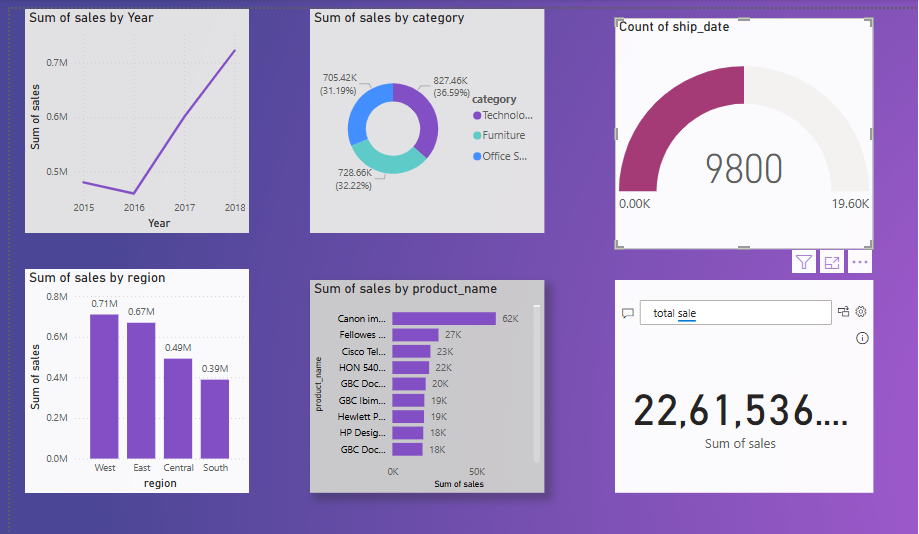

This screenshot's page, from the dashboard's own definition file:
{"tool":"powerbi","page":{"name":"Page 1","canvas":[1280,720],"ordinal":0},"visuals":[{"type":"lineChart","fields":{"Category":["cleaned_train_data.order_date.Variation.Date Hierarchy.Year","cleaned_train_data.order_date.Variation.Date Hierarchy.Quarter","cleaned_train_data.order_date.Variation.Date Hierarchy.Month","cleaned_train_data.order_date.Variation.Date Hierarchy.Day"],"Y":["Sum(cleaned_train_data.sales)"]},"box":[18.8,0,280,280],"z":0},{"type":"clusteredColumnChart","fields":{"Category":["cleaned_train_data.region"],"Y":["Sum(cleaned_train_data.sales)"]},"box":[18.8,325,280,280],"z":1000},{"type":"donutChart","fields":{"Category":["cleaned_train_data.category"],"Y":["Sum(cleaned_train_data.sales)"]},"box":[375,0,292.5,280],"z":2000},{"type":"barChart","fields":{"Category":["cleaned_train_data.product_name"],"Y":["Sum(cleaned_train_data.sales)"]},"box":[375,338.8,292.5,266.2],"z":3000},{"type":"gauge","fields":{"Y":["CountNonNull(cleaned_train_data.ship_date)"]},"box":[756.2,11.2,322.5,288.8],"z":4000},{"type":"qnaVisual","box":[756.2,338.8,322.5,266.2],"z":5000}]}

Visuals, with their boxes on the page's 1280x720 design canvas (x1, y1, x2, y2). These are canvas units, not pixel positions in the 919x534 screenshot, which may show the page scaled, cropped or inside an application window:
lineChart - cleaned_train_data.order_date.Variation.Date Hierarchy.Year x cleaned_train_data.order_date.Variation.Date Hierarchy.Quarter: (19, 0, 299, 280)
clusteredColumnChart - cleaned_train_data.region x Sum(cleaned_train_data.sales): (19, 325, 299, 605)
donutChart - cleaned_train_data.category x Sum(cleaned_train_data.sales): (375, 0, 668, 280)
barChart - cleaned_train_data.product_name x Sum(cleaned_train_data.sales): (375, 339, 668, 605)
gauge - CountNonNull(cleaned_train_data.ship_date): (756, 11, 1079, 300)
qnaVisual: (756, 339, 1079, 605)
